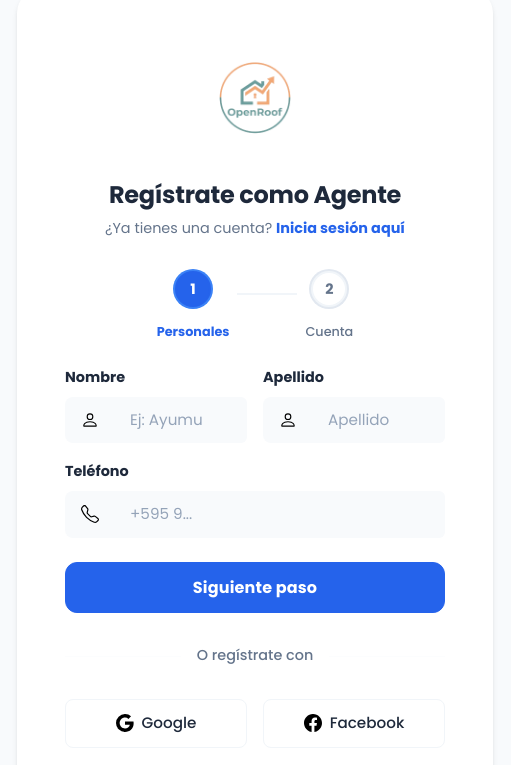
Test: Agent Registration Flow › debe avanzar del paso 1 al paso 2 correctamente
Note: Llenar datos del paso 1
Type "Agente" into the field named "nombre" at (181, 421), box [114,397,247,444]
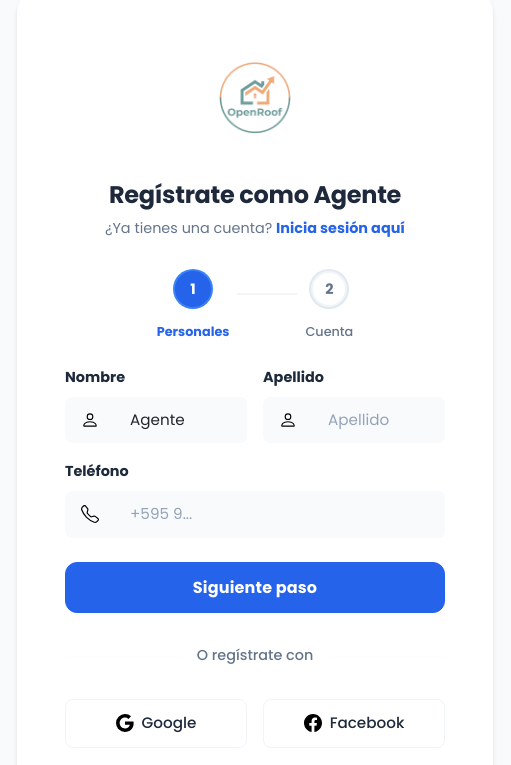
Type "Cypress" into the field named "apellido" at (379, 421), box [312,397,445,444]
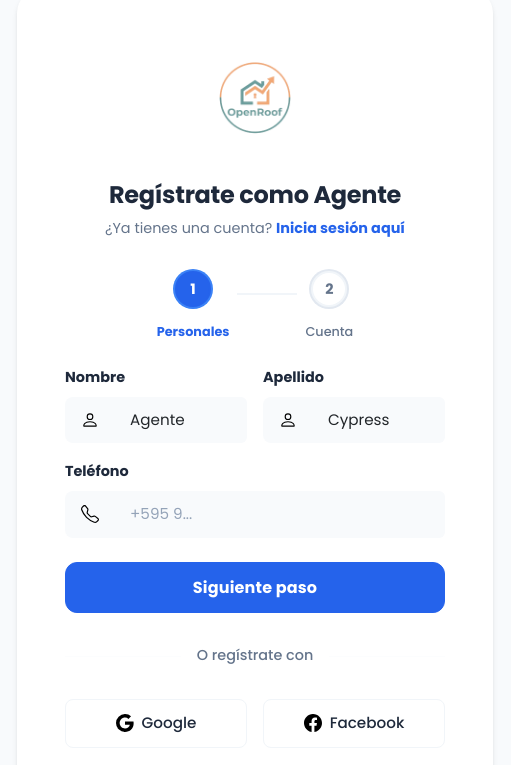
Type "1234567890" into the field named "phone" at (280, 515), box [114,491,445,538]
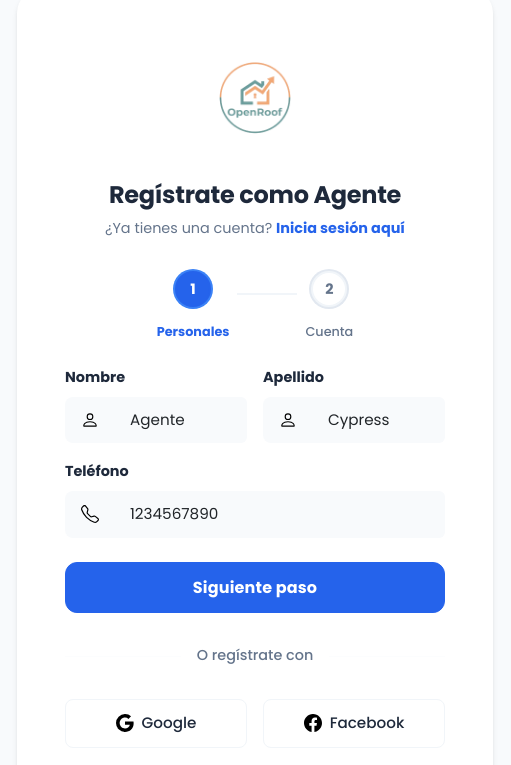
Note: Avanzar al paso 2
Click the button "Siguiente paso" at (255, 588), box [65,562,445,614]
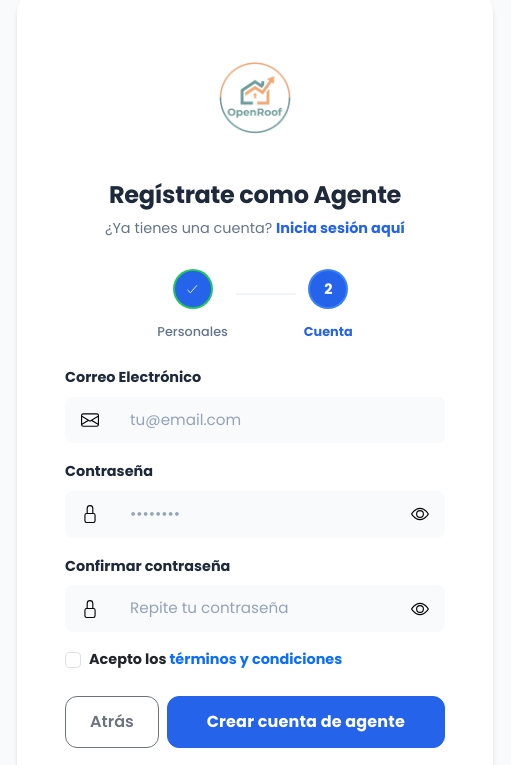
Expected: the field named "email" is shown, [114,397,445,444]
Expected: the password field named "password" is shown, [114,491,396,538]
Expected: the password field named "confirmPassword" is shown, [114,585,396,632]
